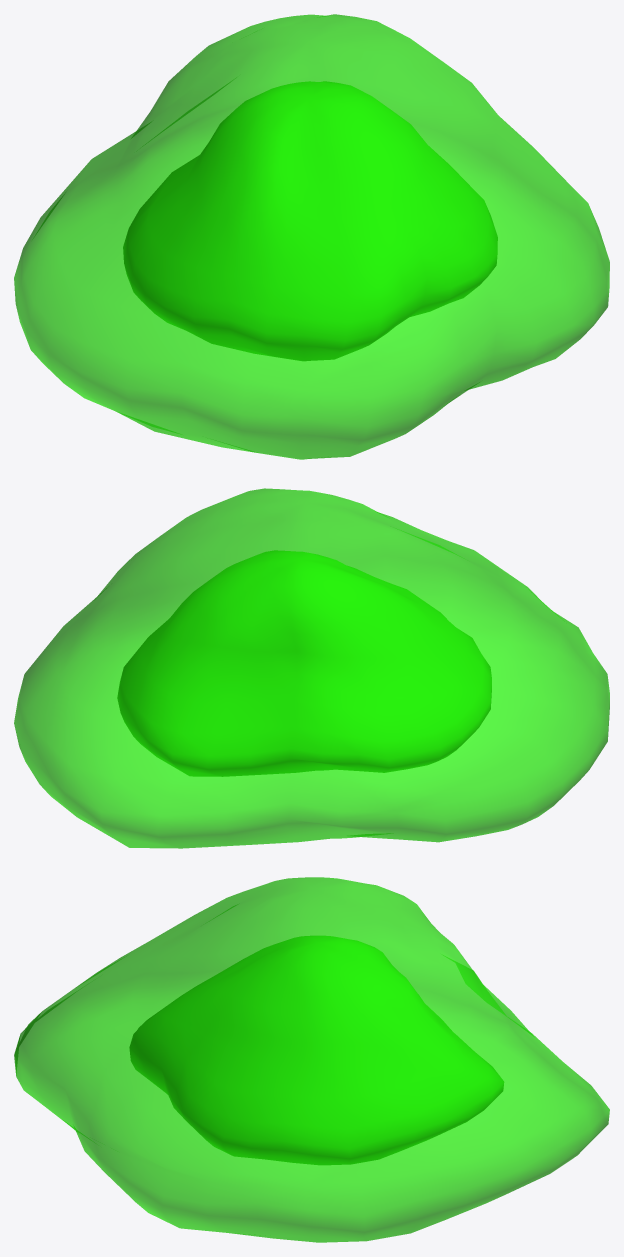
The model's file is Slime.FBX.
3 views of the same model, one above another, from view 1: azimuth 30°, elevation 25°; view 2: azimuth 150°, elevation 25°; view 3: azimuth 270°, elevation 25° (orthographic). The views are drawn at different scales.
Parts seen in each view (by area): view 1: Sphere001, Sphere002; view 2: Sphere001, Sphere002; view 3: Sphere001, Sphere002.
Boxes of the visible parts, x1,y1,x2,y2 form: Sphere001: [14, 14, 609, 459]; Sphere002: [123, 81, 497, 361]; Sphere001: [14, 488, 609, 848]; Sphere002: [117, 550, 491, 776]; Sphere001: [14, 877, 609, 1242]; Sphere002: [129, 935, 504, 1165].
Bounding box in the file's own units: 29.37 × 17.99 × 31.74.
